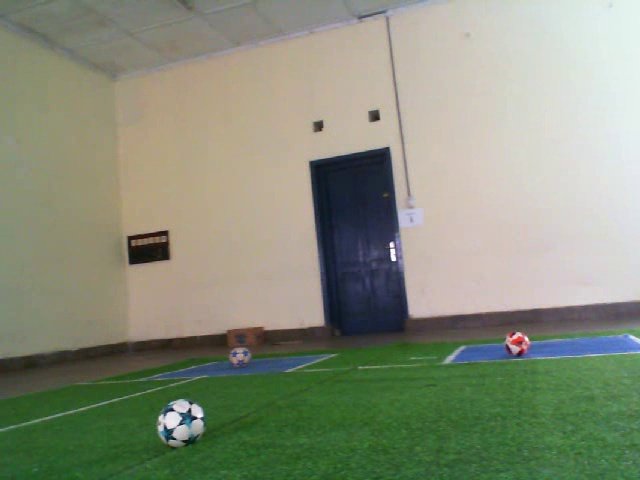ball: (154, 396, 208, 452), (502, 328, 533, 359), (227, 344, 254, 371)
